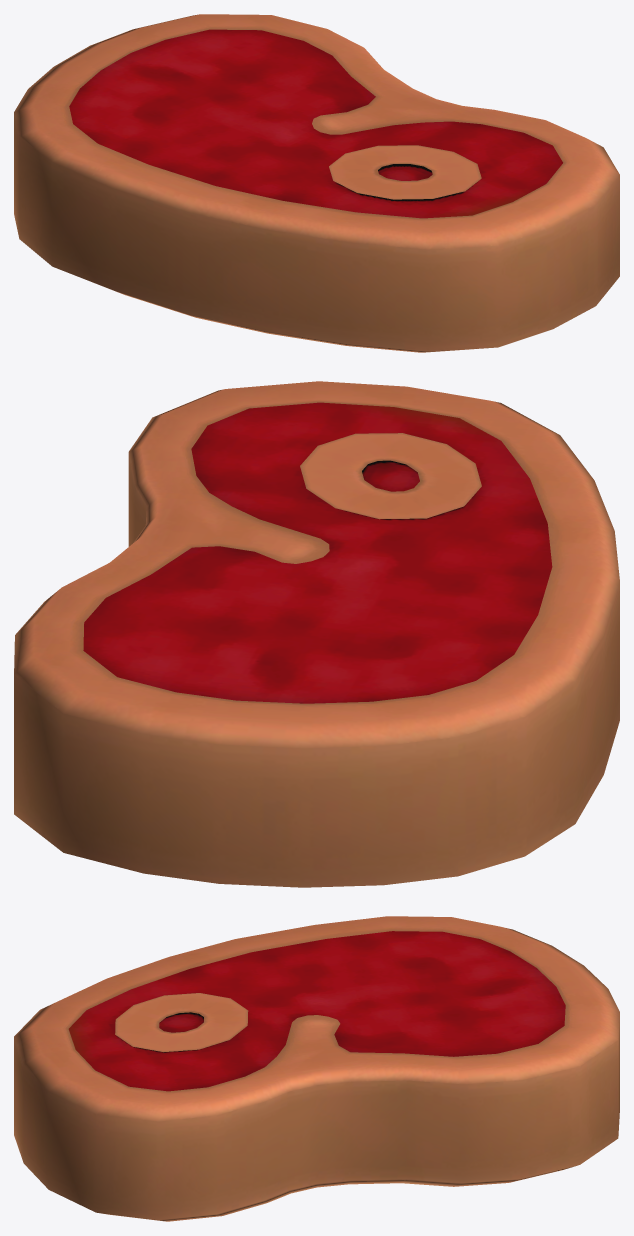
File: Meat.fbx
3 renders of one model, top to bottom at view 1: azimuth 30°, elevation 25°; view 2: azimuth 150°, elevation 25°; view 3: azimuth 270°, elevation 25°, orthographic. The views are drawn at different scales.
Visible parts, largest first — view 1: m_ingredients_meat_01; view 2: m_ingredients_meat_01; view 3: m_ingredients_meat_01.
Boxes of the visible parts, <box> form: m_ingredients_meat_01: <box>14,14,619,352</box>; m_ingredients_meat_01: <box>14,381,619,887</box>; m_ingredients_meat_01: <box>14,916,619,1221</box>.
Bounding box in the file's own units: 75.44 × 20.64 × 95.12.
